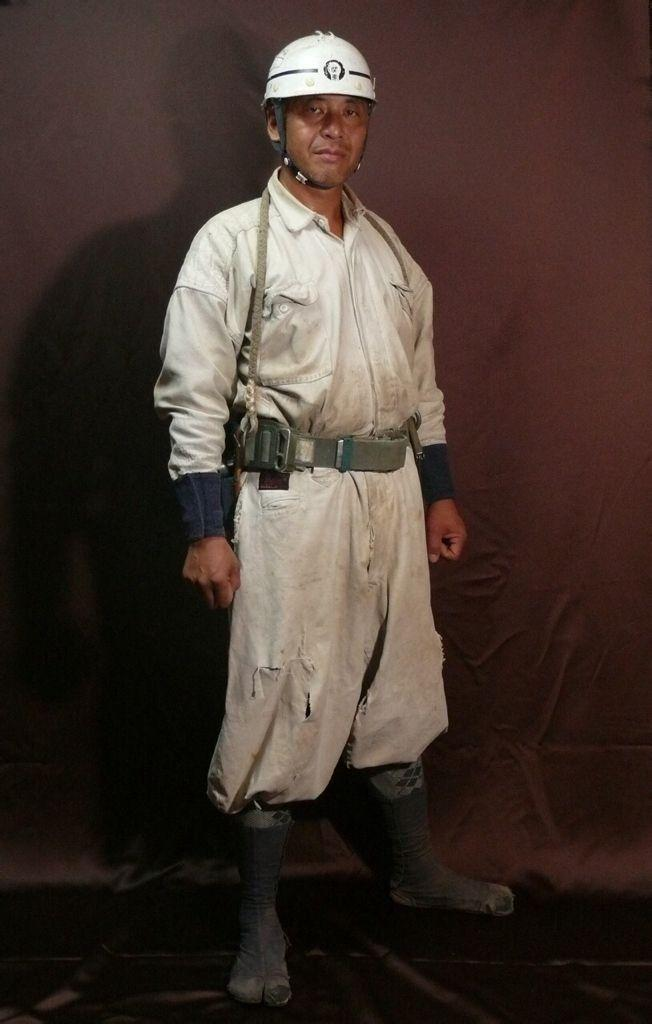helmet: (260, 25, 382, 119)
wear: (220, 207, 419, 471)
